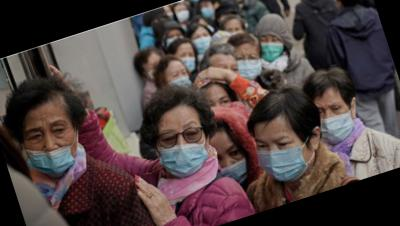mask_weared_incorrect: (16, 111, 87, 183)
with_mask: (153, 115, 215, 184), (251, 123, 315, 188), (312, 94, 360, 148), (212, 138, 253, 188), (234, 46, 267, 84), (256, 31, 289, 65), (164, 66, 196, 95), (189, 28, 215, 55), (176, 47, 201, 75), (199, 1, 219, 20), (175, 6, 193, 24)
